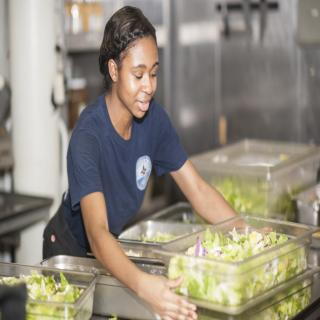Salad: (166, 212, 316, 304), (0, 264, 95, 320)
